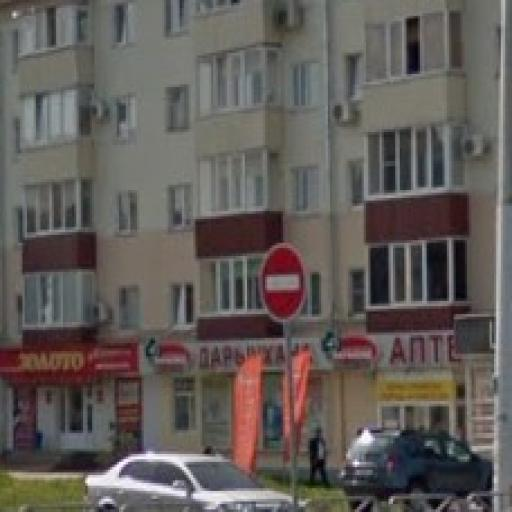traffic_sign: (259, 241, 309, 326)
